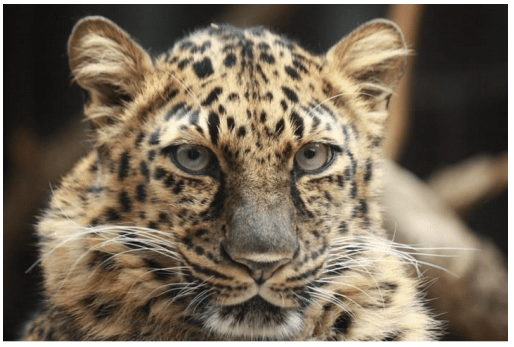amur_leopard: (42, 11, 452, 336)
